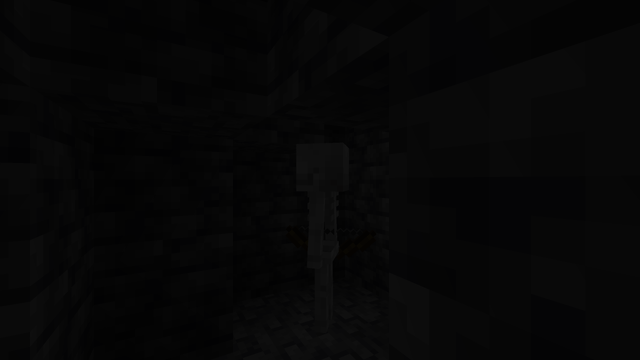squelettes: (289, 142, 361, 346)
